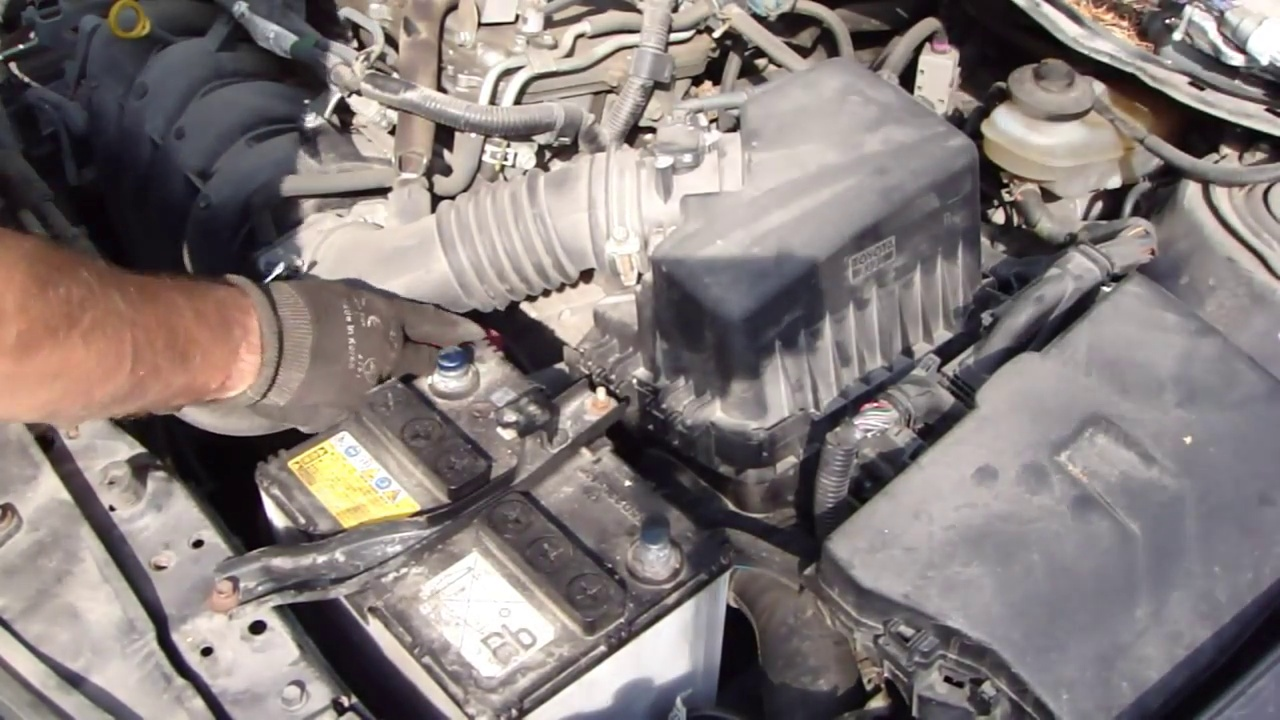battery: (263, 353, 730, 689)
